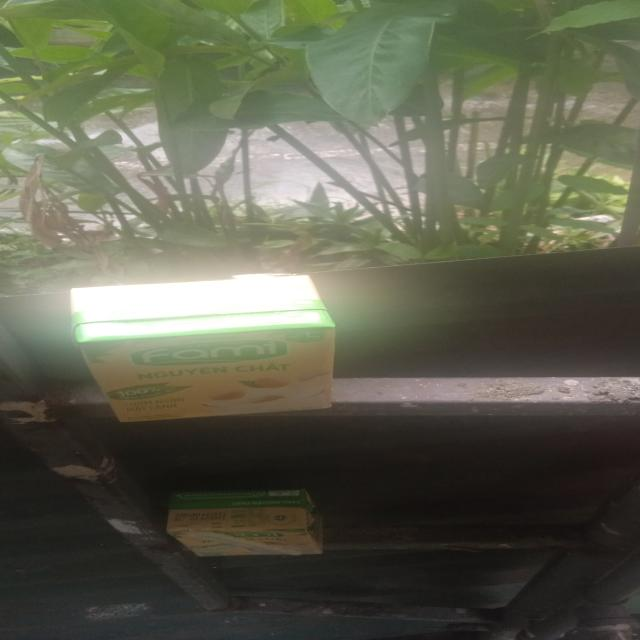Fami: (69, 274, 341, 427)
